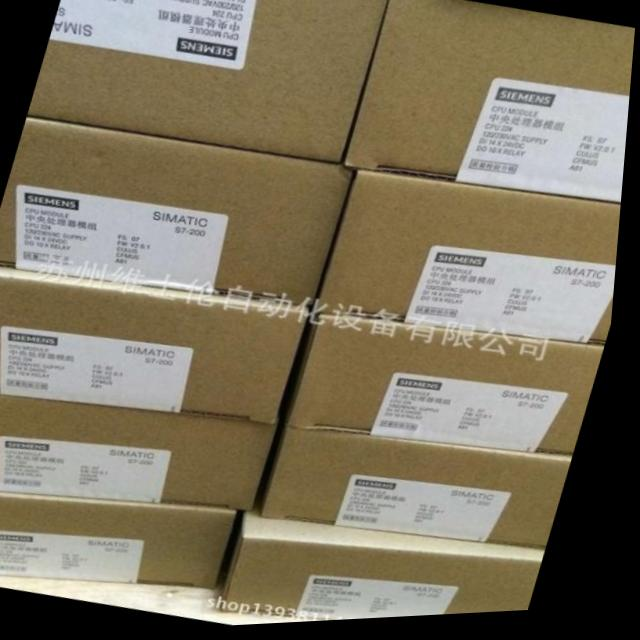box: (0, 115, 357, 312), (343, 0, 636, 210), (29, 0, 388, 167), (320, 173, 625, 351), (0, 269, 318, 429), (289, 318, 611, 463), (267, 430, 580, 556), (231, 513, 555, 624), (0, 395, 285, 515), (0, 492, 247, 593)
